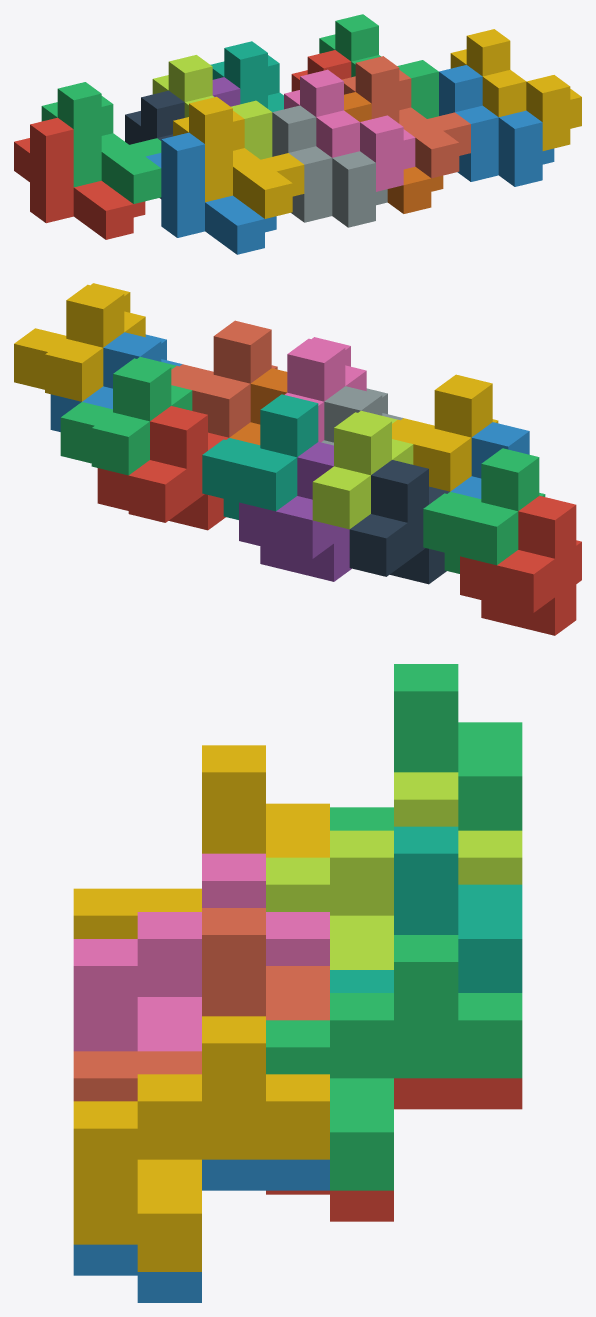
The model's file is tiling.obj.
3 renders of one model, top to bottom at view 1: azimuth 30°, elevation 25°; view 2: azimuth 150°, elevation 25°; view 3: azimuth 270°, elevation 25°, orthographic. The views are drawn at different scales.
Visible parts, largest first — view 1: copy_1_domain_4, copy_1_domain_1, copy_1_domain_3, copy_2_domain_2, copy_2_domain_6, copy_1_domain_2, copy_2_domain_8, copy_2_domain_4, copy_1_domain_8, copy_2_domain_3, copy_2_domain_7, copy_1_domain_7 (+4 smaller); view 2: copy_1_domain_1, copy_2_domain_5, copy_1_domain_3, copy_1_domain_7, copy_2_domain_8, copy_2_domain_7, copy_2_domain_1, copy_1_domain_5, copy_2_domain_3, copy_1_domain_8, copy_1_domain_4, copy_2_domain_4 (+4 smaller); view 3: copy_2_domain_8, copy_2_domain_7, copy_2_domain_4, copy_2_domain_3, copy_1_domain_3, copy_1_domain_7, copy_1_domain_4, copy_1_domain_8, copy_2_domain_6, copy_2_domain_5.
Boxes of the visible parts, <box> form: copy_1_domain_4: <box>173,96,304,218</box>; copy_1_domain_1: <box>14,117,145,239</box>; copy_1_domain_3: <box>41,82,161,203</box>; copy_2_domain_2: <box>272,105,387,227</box>; copy_2_domain_6: <box>439,65,554,186</box>; copy_1_domain_2: <box>146,132,276,254</box>; copy_2_domain_8: <box>450,29,581,150</box>; copy_2_domain_4: <box>284,69,415,191</box>; copy_1_domain_8: <box>342,56,470,178</box>; copy_2_domain_3: <box>152,55,272,159</box>; copy_2_domain_7: <box>319,14,438,118</box>; copy_1_domain_7: <box>210,41,283,111</box>; copy_1_domain_1: <box>460,495,581,635</box>; copy_2_domain_5: <box>97,406,228,530</box>; copy_1_domain_3: <box>423,448,545,573</box>; copy_1_domain_7: <box>202,394,318,519</box>; copy_2_domain_8: <box>14,283,145,401</box>; copy_2_domain_7: <box>60,357,192,475</box>; copy_2_domain_1: <box>349,460,449,584</box>; copy_1_domain_5: <box>239,442,351,581</box>; copy_2_domain_3: <box>312,410,413,529</box>; copy_1_domain_8: <box>171,320,277,437</box>; copy_1_domain_4: <box>392,374,498,491</box>; copy_2_domain_4: <box>284,337,366,442</box>; copy_2_domain_8: <box>73,1016,329,1271</box>; copy_2_domain_7: <box>266,935,522,1190</box>; copy_2_domain_4: <box>73,853,329,1051</box>; copy_2_domain_3: <box>266,772,522,969</box>; copy_1_domain_3: <box>330,664,522,830</box>; copy_1_domain_7: <box>330,826,522,992</box>; copy_1_domain_4: <box>73,745,329,938</box>; copy_1_domain_8: <box>73,908,329,1101</box>; copy_2_domain_6: <box>73,1159,329,1302</box>; copy_2_domain_5: <box>266,1078,522,1221</box>.
Size of the model in its own units: 17 by 4 by 7.
